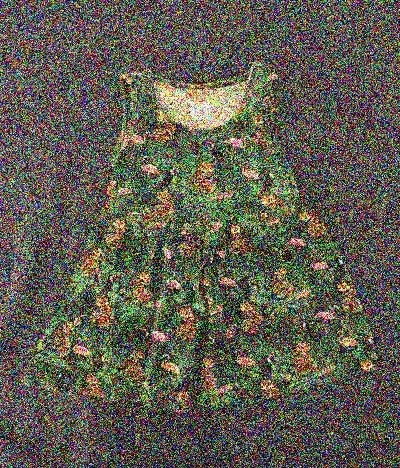Dress: (23, 58, 397, 410)
